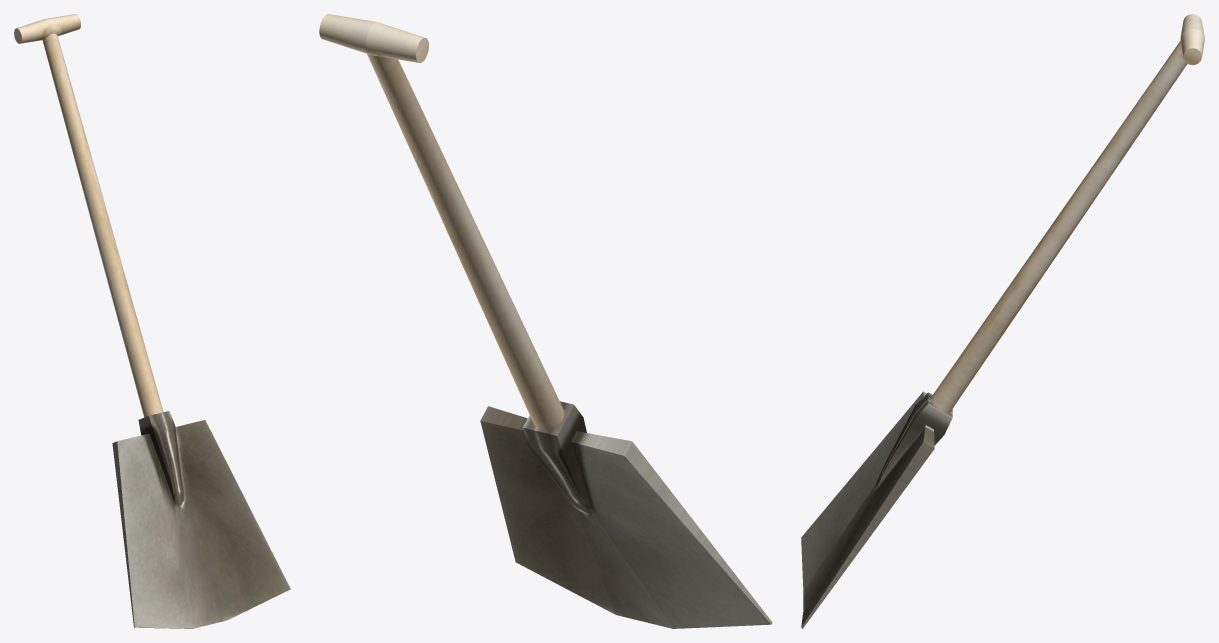
The model's file is schep.fbx.
3 renders of one model, left to right at view 1: azimuth 30°, elevation 25°; view 2: azimuth 150°, elevation 25°; view 3: azimuth 270°, elevation 25°, orthographic. The views are drawn at different scales.
Parts seen in each view (by area): view 1: pCylinder5; view 2: pCylinder5; view 3: pCylinder5.
Boxes of the visible parts, x1,y1,x2,y2 form: pCylinder5: [14, 14, 290, 628]; pCylinder5: [319, 14, 772, 628]; pCylinder5: [801, 14, 1204, 628].
Size of the model in its own units: 8.95 by 26.55 by 16.9.
